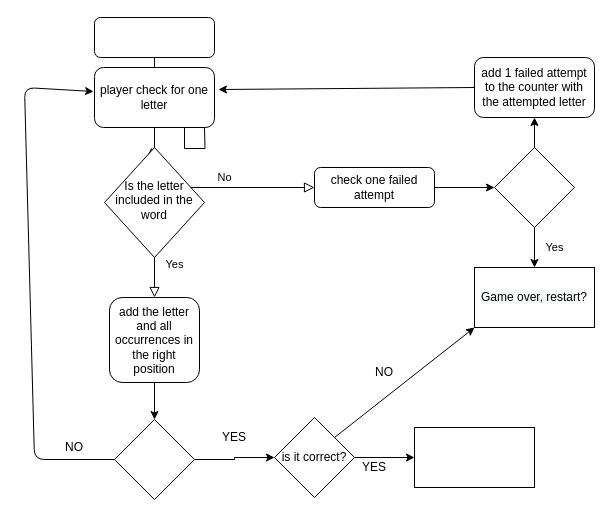
The diagram is 612 pixels wide and 517 high, and some of its shapes have lost their labels. Here are the shapes that lost their labels. From the top down, the box of each, then its label:
(94, 16, 214, 58): Select an english word from database
(494, 146, 574, 228): is the last possible attempt?
(114, 418, 194, 500): player wants to attempt to say the full word?
(414, 426, 534, 488): Player wins, restart?
